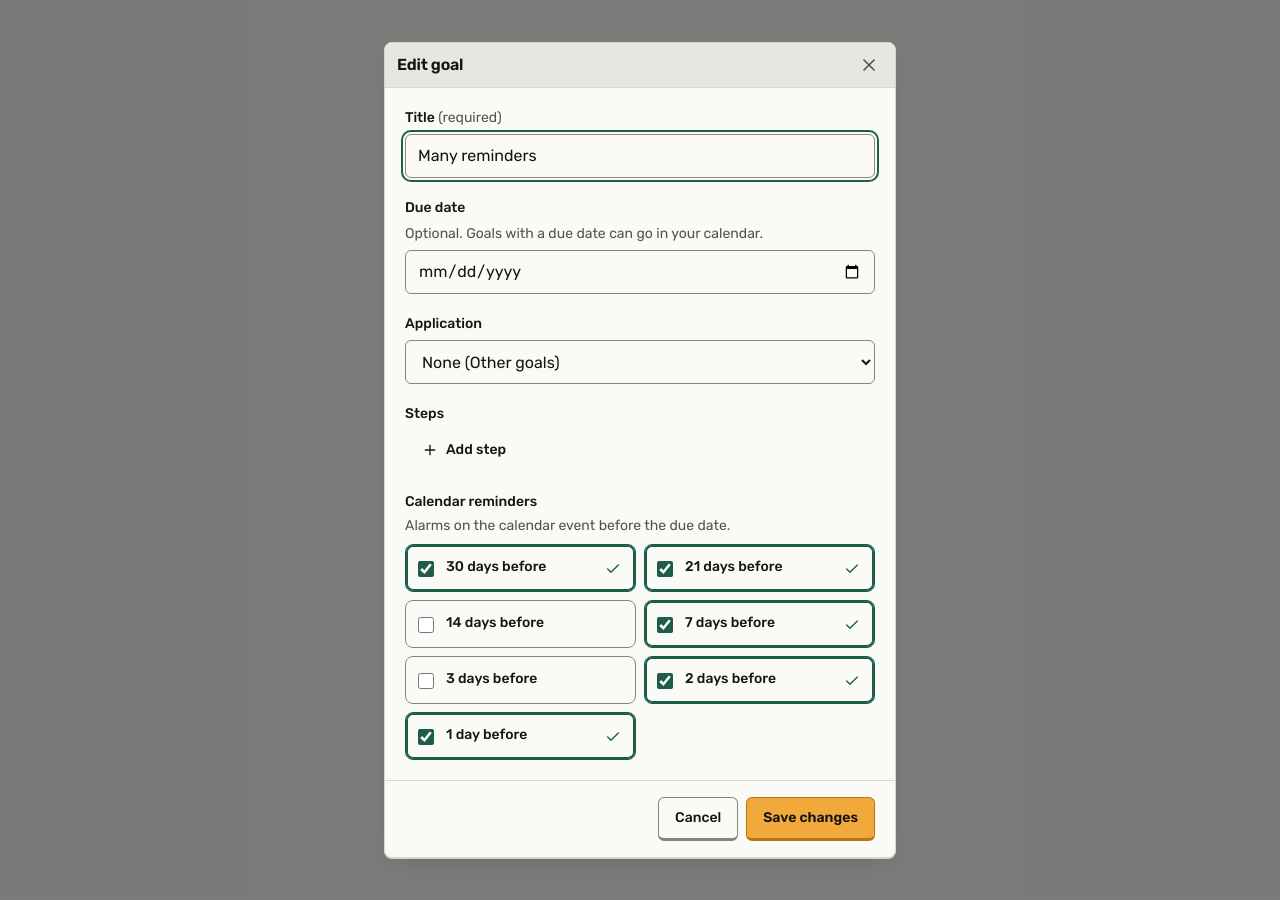
Test: parsePlanTab › caps text to what the workspace schema accepts and refuses more than 5 reminders
Click the button "Add step" at coordinates (464, 450), box 405,428 -> 523,472
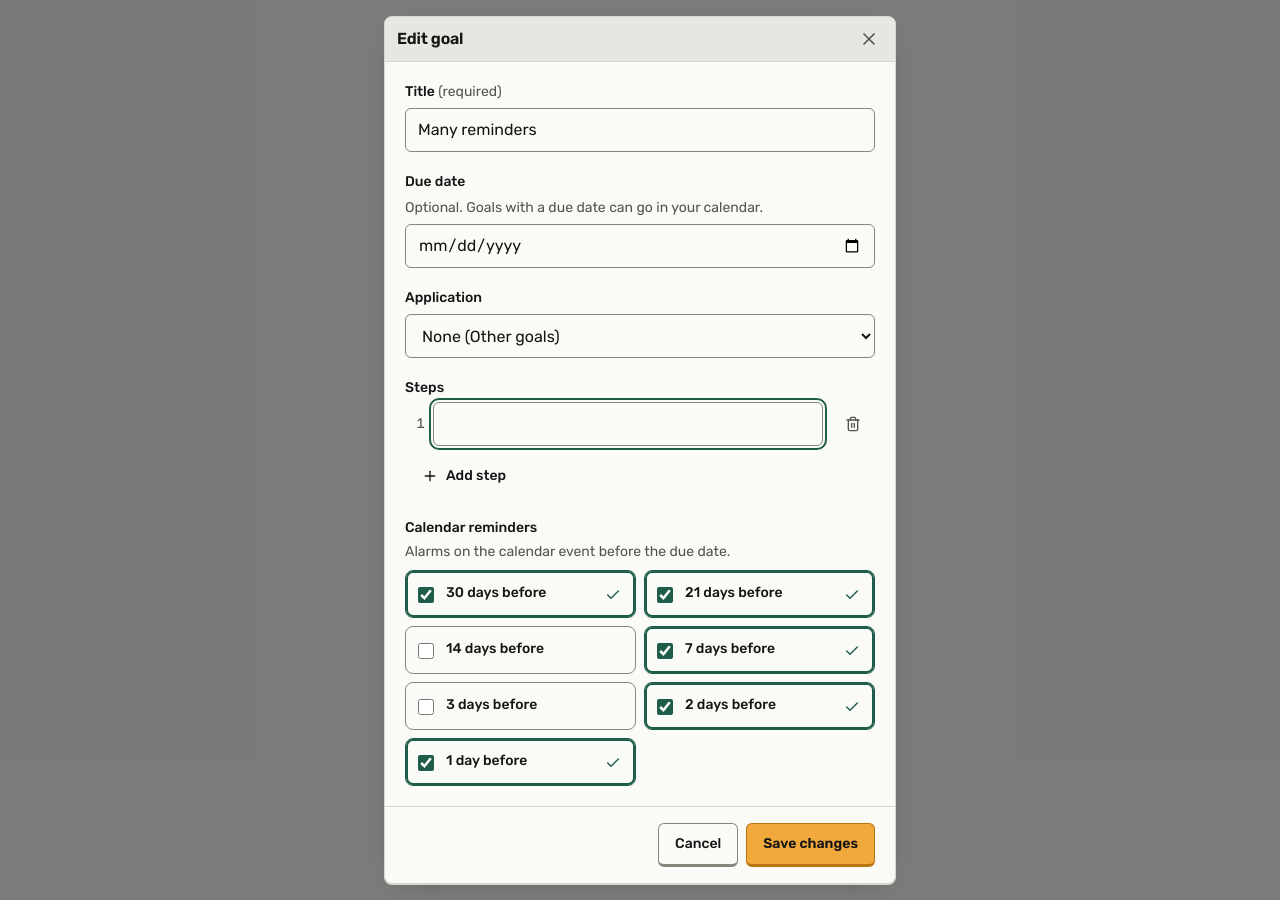
Click the checkbox labelled "14 days before" at coordinates (426, 651), box 418,643 -> 434,659
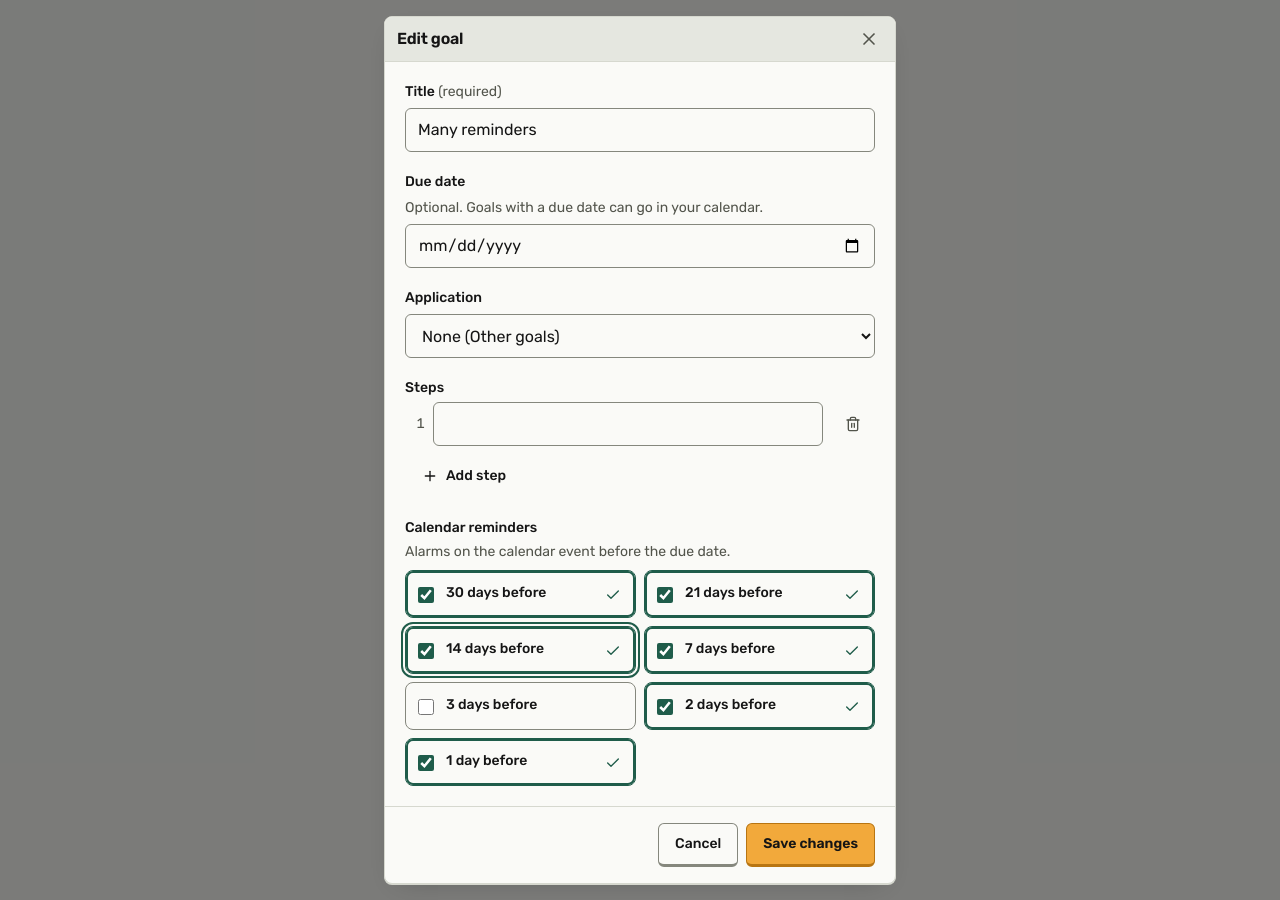
Click the button "Save changes" at coordinates (811, 845), box 746,823 -> 875,867
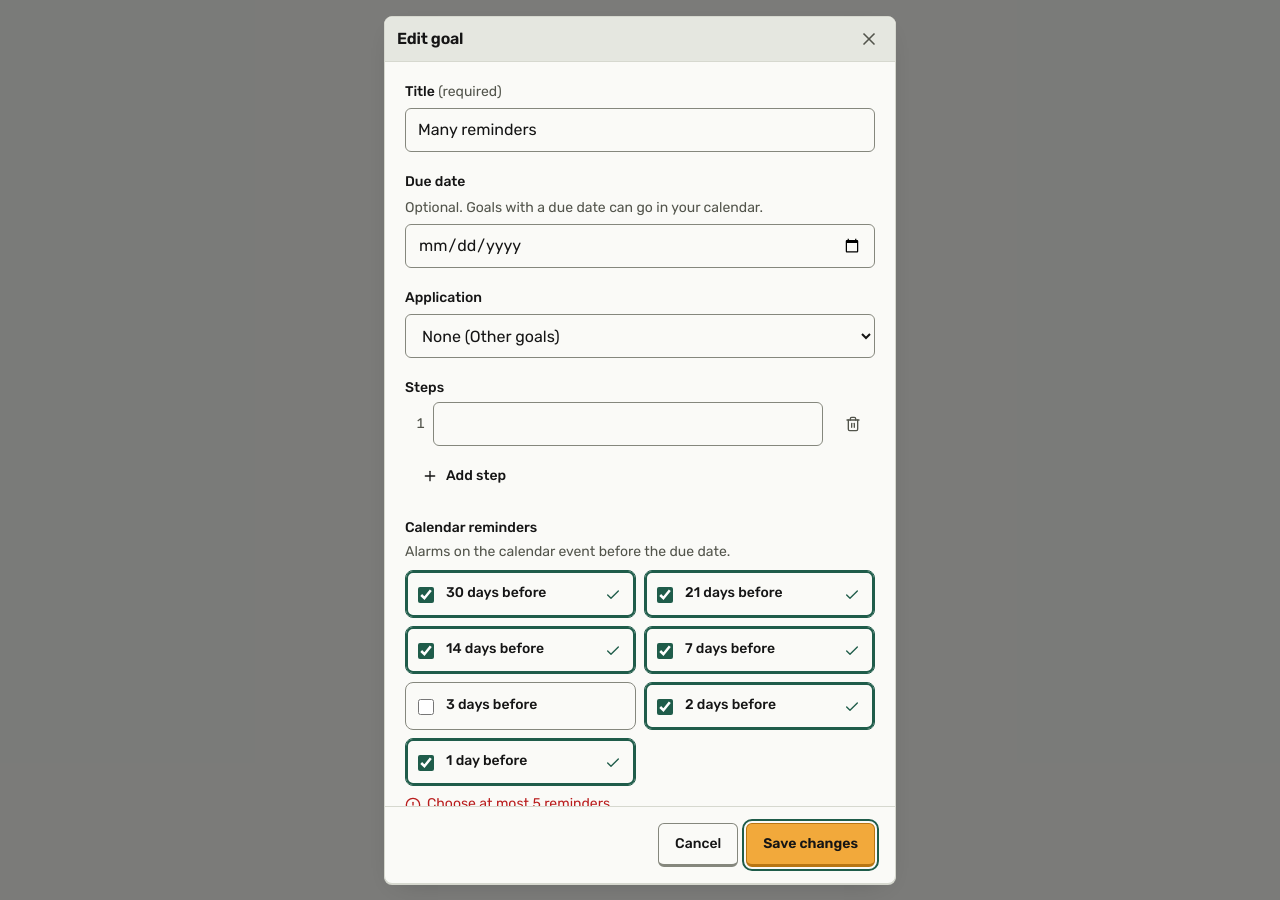
Check: the text "Choose at most 5 reminders." is shown, box 427,794 -> 614,806
